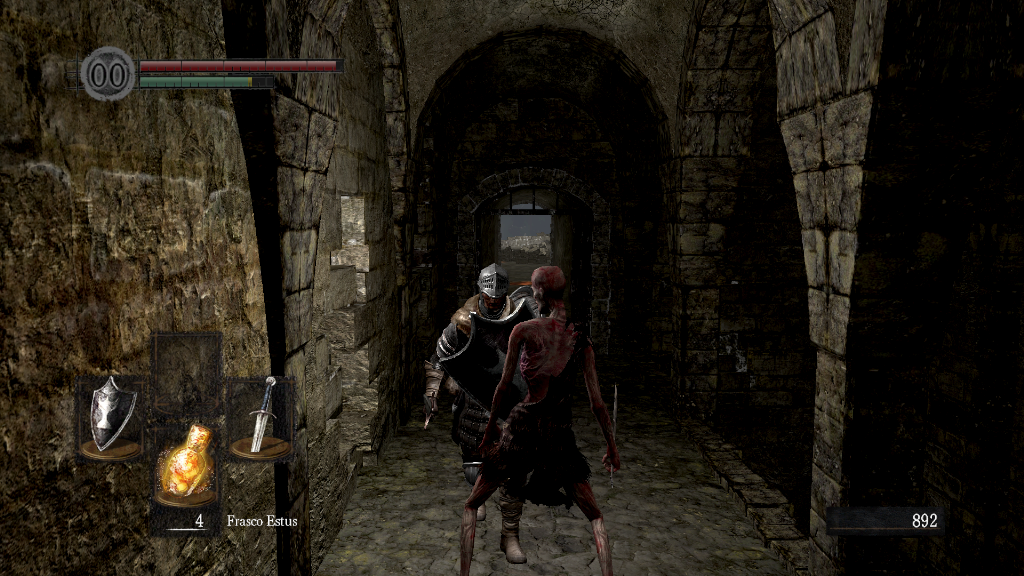health: (138, 58, 343, 71)
hollow: (462, 265, 619, 576)
humanity: (80, 45, 136, 102)
player: (422, 263, 543, 566)
souls: (825, 506, 945, 536)
stamina: (138, 74, 274, 88)
